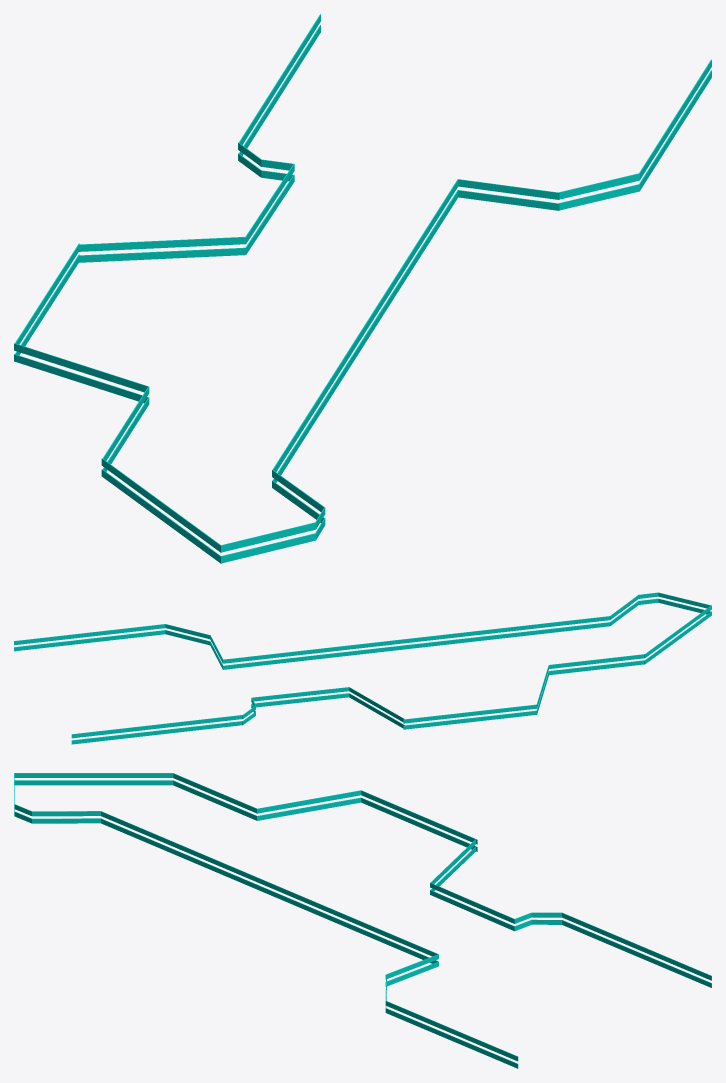
The model's file is Fences.fbx.
3 renders of one model, top to bottom at view 1: azimuth 30°, elevation 25°; view 2: azimuth 150°, elevation 25°; view 3: azimuth 270°, elevation 25°, orthographic. The views are drawn at different scales.
Parts seen in each view (by area): view 1: FenceWall23, FenceWall24, FenceWall16, FenceWall15, FenceWall11, FenceWall12, FenceWall2, FenceWall1; view 2: FenceWall24, FenceWall23, FenceWall29, FenceWall30, FenceWall31, FenceWall32, FenceWall14, FenceWall13, FenceWall17, FenceWall10, FenceWall8, FenceWall18 (+4 smaller); view 3: FenceWall23, FenceWall24, FenceWall2, FenceWall29, FenceWall30, FenceWall1, FenceWall31, FenceWall32, FenceWall13, FenceWall14, FenceWall12, FenceWall11 (+4 smaller).
Part boxes in pixels (x1,y1,x2,y2): FenceWall23: (272,179,458,471); FenceWall24: (272,190,458,482); FenceWall16: (79,247,246,262); FenceWall15: (79,237,246,251); FenceWall11: (14,343,148,392); FenceWall12: (14,354,148,403); FenceWall2: (101,469,221,563); FenceWall1: (101,458,221,552); FenceWall24: (223,622,609,669); FenceWall23: (223,616,609,663); FenceWall29: (71,715,243,738); FenceWall30: (71,721,243,744); FenceWall31: (14,630,165,651); FenceWall32: (14,624,165,645); FenceWall14: (403,710,536,729); FenceWall13: (403,704,536,723); FenceWall17: (252,687,349,701); FenceWall10: (549,660,644,675); FenceWall8: (549,654,644,668); FenceWall18: (252,693,349,707); FenceWall23: (101,811,438,956); FenceWall24: (101,818,438,963); FenceWall2: (14,780,173,785); FenceWall29: (562,912,711,980); FenceWall30: (562,920,711,987); FenceWall1: (14,773,173,777); FenceWall31: (385,1008,518,1068); FenceWall32: (385,1001,518,1061); FenceWall13: (361,790,477,844); FenceWall14: (361,797,477,851); FenceWall12: (257,797,361,820); FenceWall11: (257,790,361,813).
Size of the model in its own units: 306 by 6.05 by 318.
